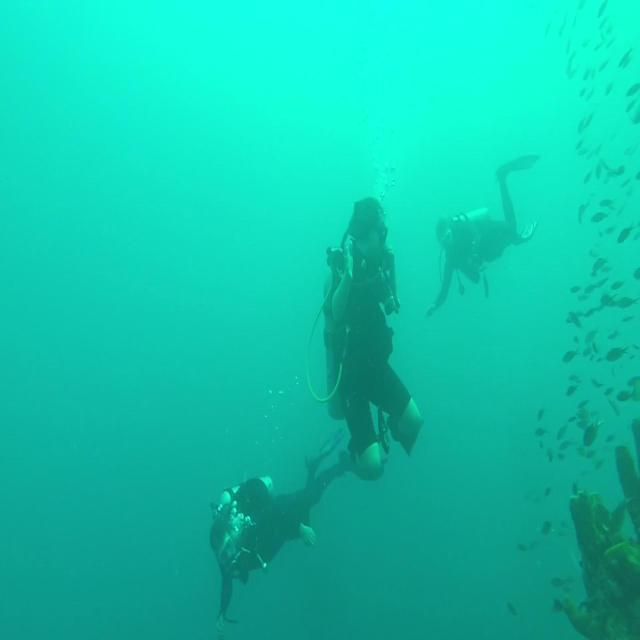human: (321, 195, 424, 482), (208, 426, 350, 630), (424, 152, 540, 319)
